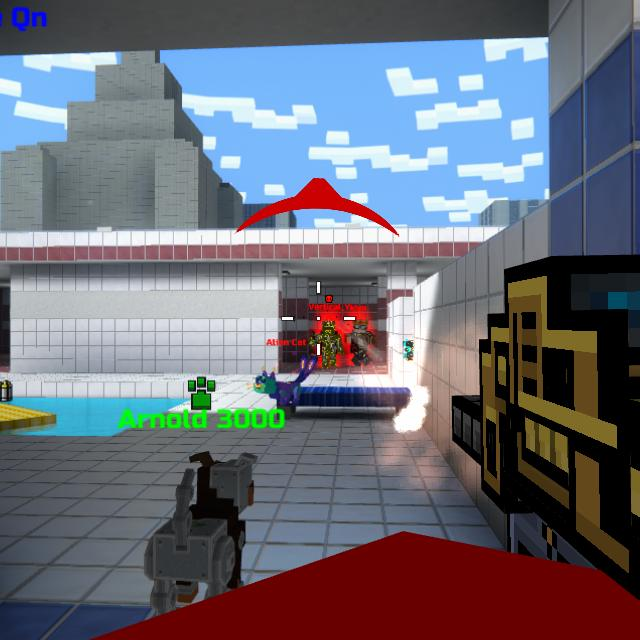Enemy: (310, 320, 344, 370), (344, 318, 376, 367)
